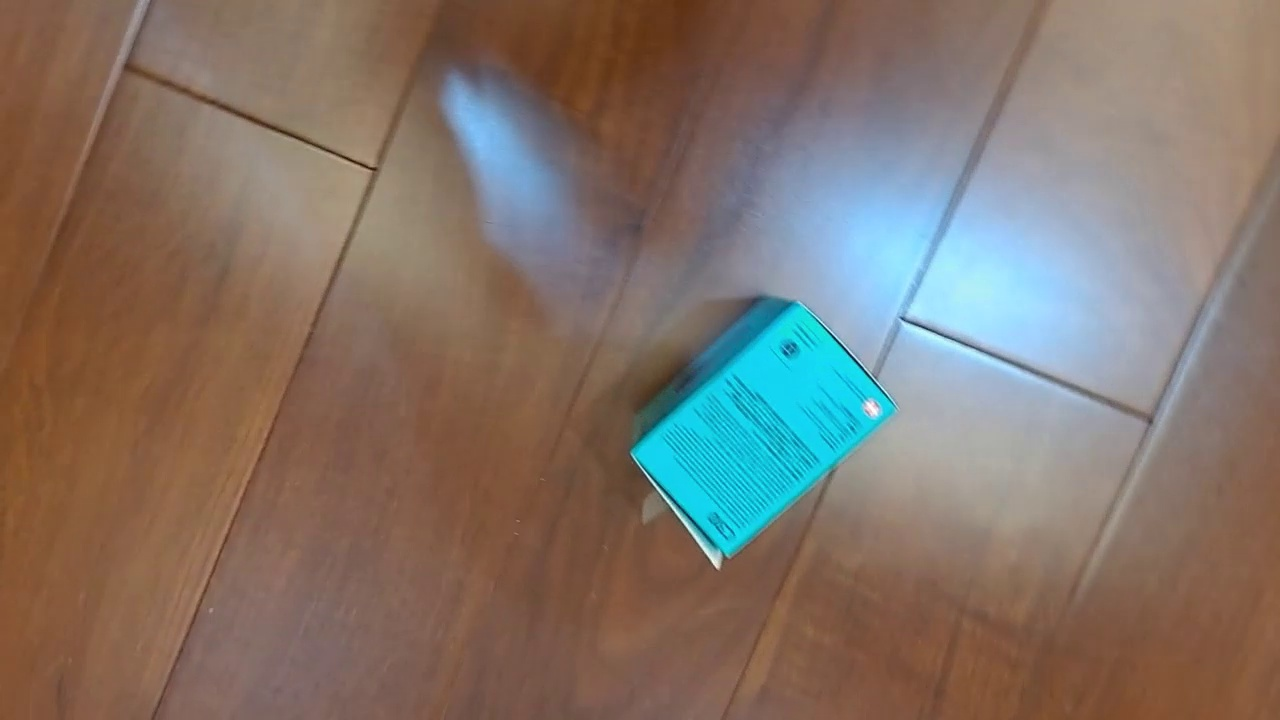webcam: (629, 294, 900, 570)
